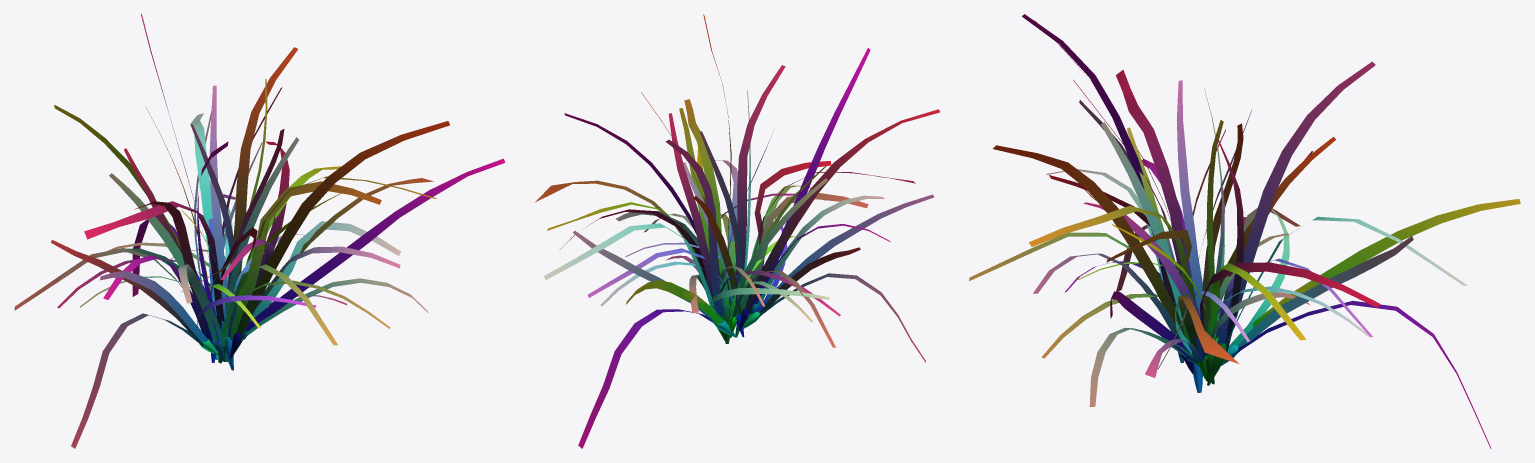
File: Ribbon_Grass_tbdpec3r_Low_tbdpec3r_VarA_LOD0.fbx
3 renders of one model, left to right at view 1: azimuth 30°, elevation 25°; view 2: azimuth 150°, elevation 25°; view 3: azimuth 270°, elevation 25°, orthographic. The views are drawn at different scales.
Visible parts, largest first — view 1: _7a4d_VarA_LOD1; view 2: _7a4d_VarA_LOD1; view 3: _7a4d_VarA_LOD1.
Boxes of the visible parts, bbox=[...] form: _7a4d_VarA_LOD1: bbox=[14, 14, 505, 448]; _7a4d_VarA_LOD1: bbox=[535, 14, 939, 448]; _7a4d_VarA_LOD1: bbox=[969, 14, 1520, 448].
Size of the model in its own units: 70.82 by 54.1 by 72.87.
